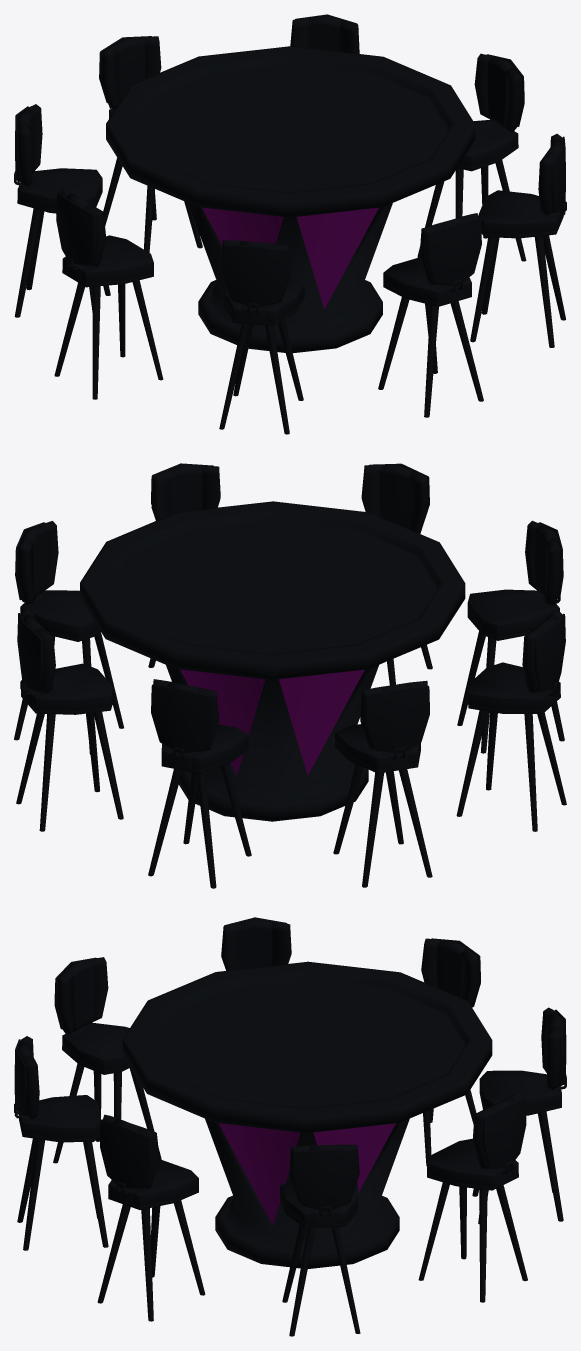
The model's file is Card_Table.fbx.
3 views of the same model, one above another, from view 1: azimuth 30°, elevation 25°; view 2: azimuth 150°, elevation 25°; view 3: azimuth 270°, elevation 25° (orthographic). The views are drawn at different scales.
Parts seen in each view (by area): view 1: Table001, Tall_Stool016, Tall_Stool010, Tall_Stool009, Tall_Stool011, Tall_Stool012, Table_light001, Tall_Stool015, Tall_Stool014, Tall_Stool013; view 2: Table001, Tall_Stool014, Tall_Stool015, Tall_Stool016, Tall_Stool013, Tall_Stool009, Table_light001, Tall_Stool012, Tall_Stool010, Tall_Stool011; view 3: Table001, Tall_Stool011, Tall_Stool013, Tall_Stool012, Tall_Stool009, Tall_Stool010, Table_light001, Tall_Stool014, Tall_Stool015, Tall_Stool016.
Boxes of the visible parts, box(x1,y1,x2,y2) form: Table001: box(106, 46, 475, 353); Tall_Stool016: box(54, 188, 163, 399); Tall_Stool010: box(378, 213, 483, 417); Tall_Stool009: box(219, 240, 304, 434); Tall_Stool011: box(470, 134, 566, 347); Tall_Stool012: box(417, 53, 526, 261); Table_light001: box(202, 207, 378, 309); Tall_Stool015: box(14, 104, 110, 317); Tall_Stool014: box(99, 36, 202, 252); Tall_Stool013: box(290, 14, 359, 53); Table001: box(80, 501, 465, 821); Tall_Stool014: box(148, 679, 251, 888); Tall_Stool015: box(333, 680, 432, 887); Tall_Stool016: box(456, 610, 566, 831); Tall_Stool013: box(16, 609, 123, 831); Tall_Stool009: box(457, 520, 564, 753); Table_light001: box(180, 669, 364, 775); Tall_Stool012: box(14, 521, 123, 754); Tall_Stool010: box(361, 463, 432, 685); Tall_Stool011: box(148, 463, 220, 667); Table001: box(122, 961, 492, 1268); Tall_Stool011: box(97, 1114, 205, 1321); Tall_Stool013: box(418, 1093, 527, 1302); Tall_Stool012: box(280, 1144, 360, 1336); Tall_Stool009: box(53, 957, 161, 1163); Tall_Stool010: box(14, 1036, 108, 1250); Table_light001: box(218, 1123, 395, 1225); Tall_Stool014: box(472, 1007, 566, 1224); Tall_Stool015: box(421, 938, 480, 1165); Tall_Stool016: box(221, 917, 291, 970).
Size of the model in its own units: 3.96 by 1.53 by 3.96.
